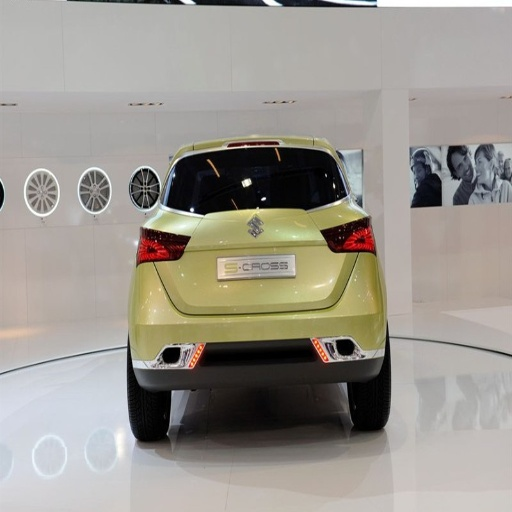back_bumper: (131, 253, 391, 388)
trunk: (146, 203, 364, 313)
